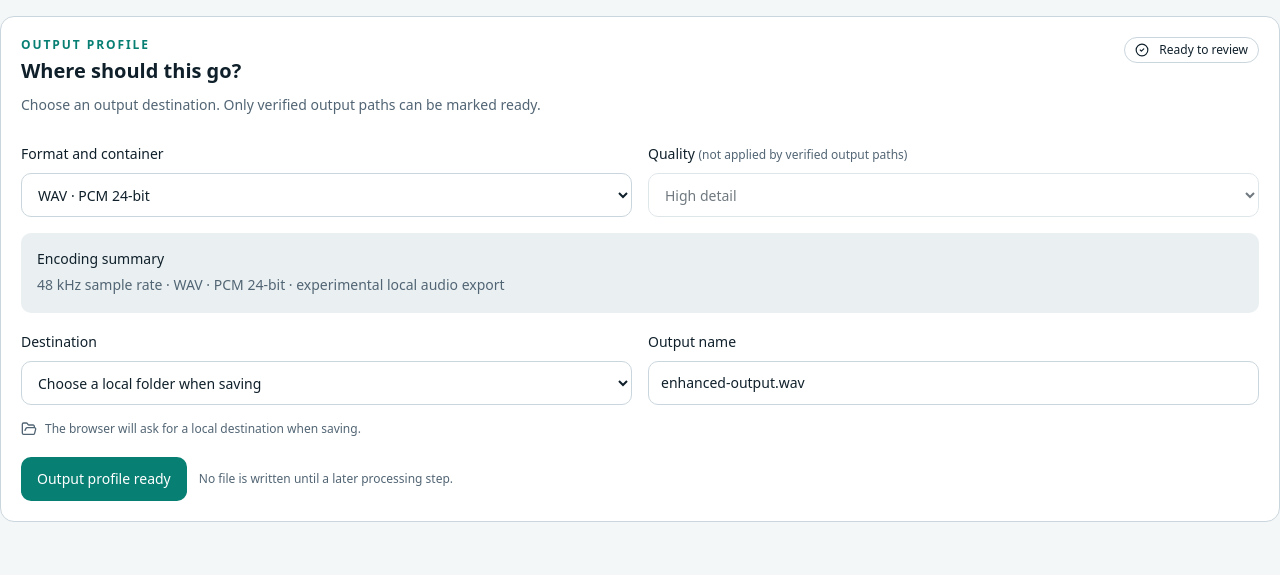
Test: output profile panel › rejects using the original source as the output target without writing anything
The width and height of the screenshot is (1280, 575).
Replace the text in the field labelled "Output name" with "voice.wav": (954, 383) [648, 361, 1259, 405]
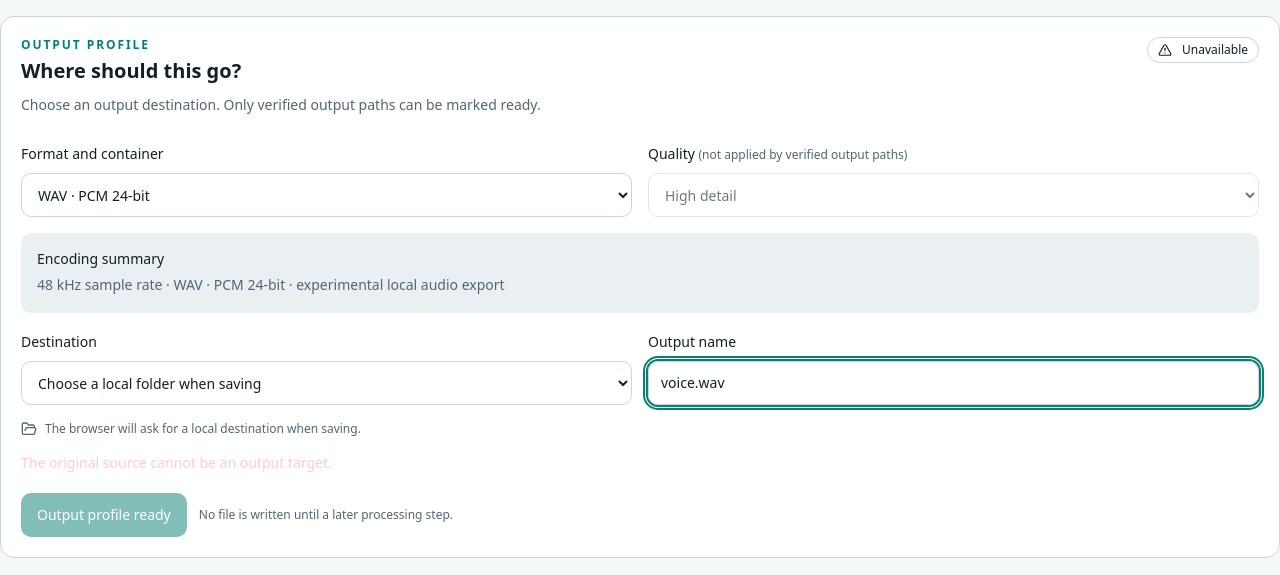
Expected: the button "Output profile ready" is disabled, [21, 493, 187, 537]
Expected: the message shows "original source", [21, 453, 332, 472]
